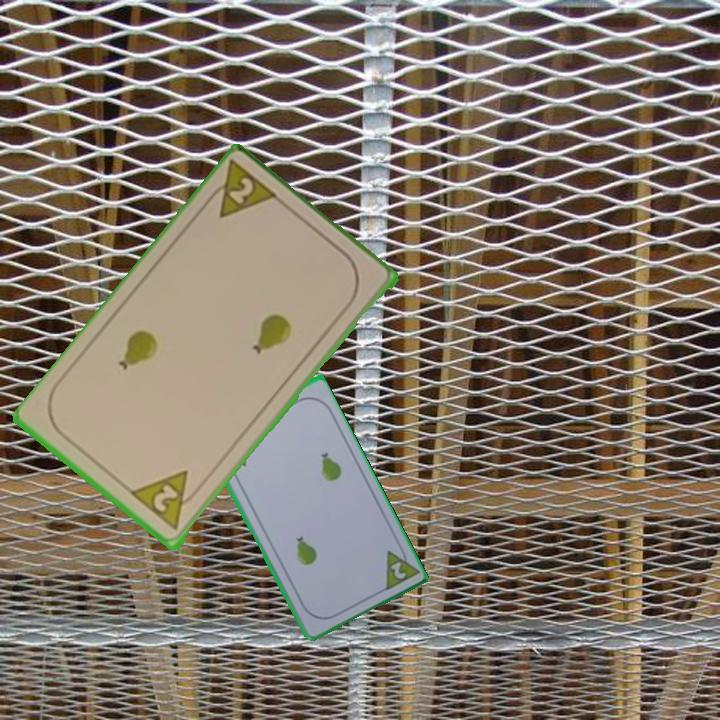2p: (200, 158, 283, 223), (128, 467, 204, 534), (386, 558, 409, 582)
